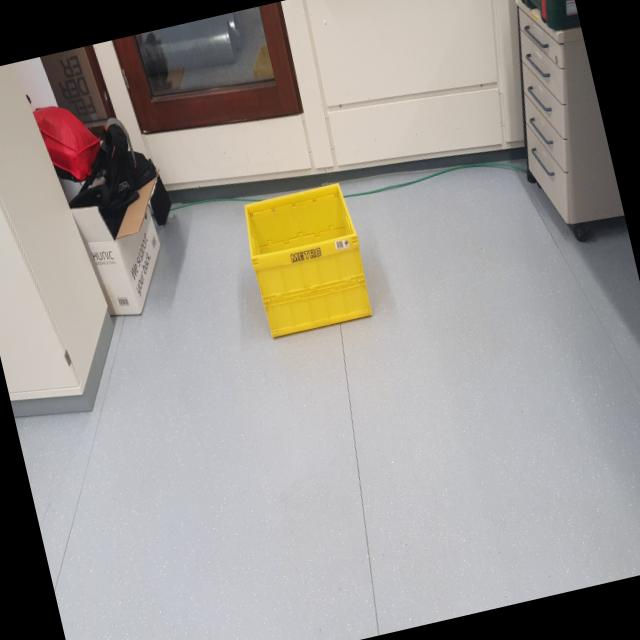box: (225, 174, 384, 360)
